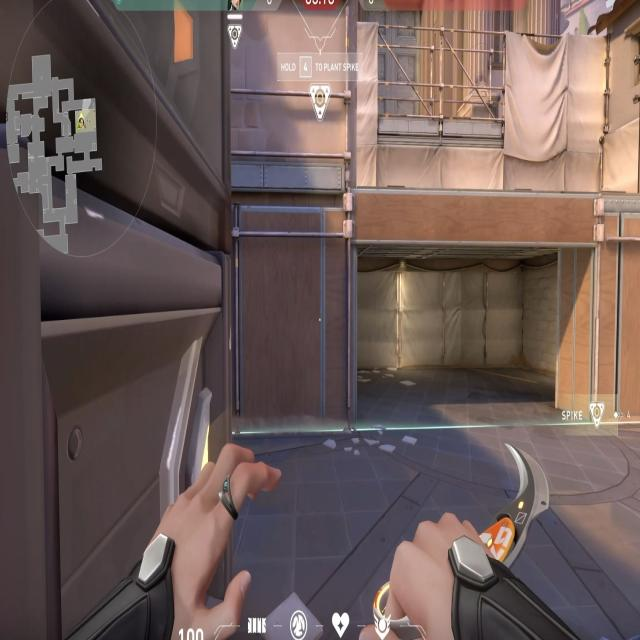A_Hell: (336, 173, 621, 431)
